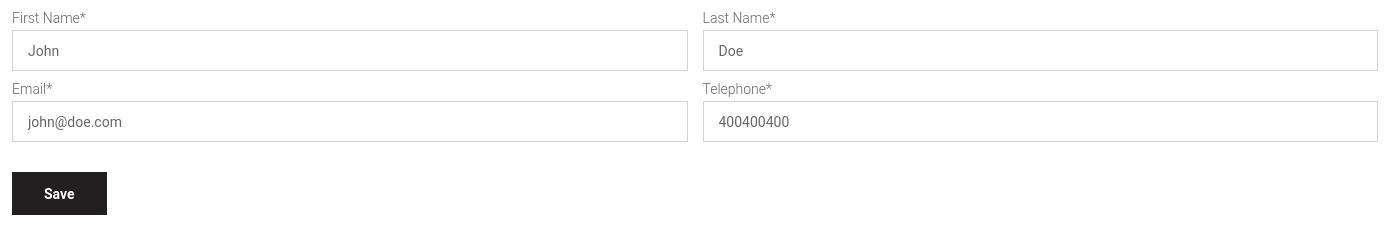
Test: Edit user data form › should display toast after click save button if all is ok
Replace the text in the field showing "john@doe.com" with "john2@doe.com": (350, 122) 12,101 -> 688,142
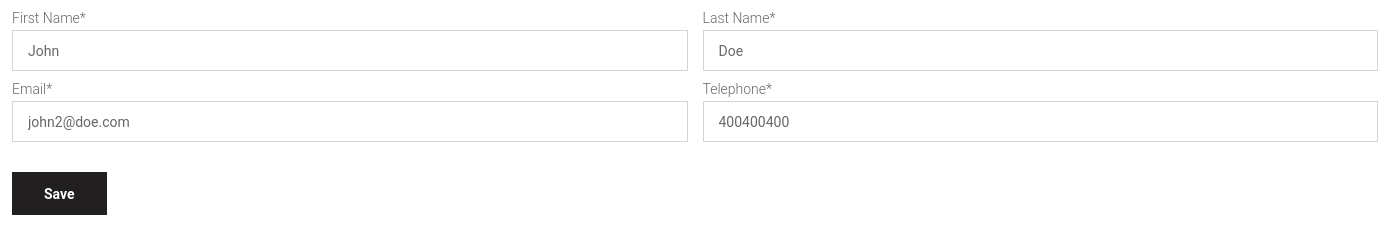
Submit the form from the button, box 12,172 -> 107,215
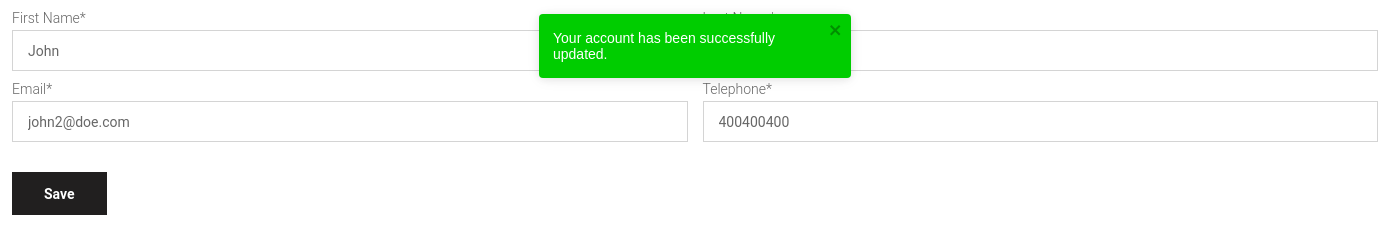
Expected: the text "Your account has been successfully updated." is shown, 553,30 -> 775,62
